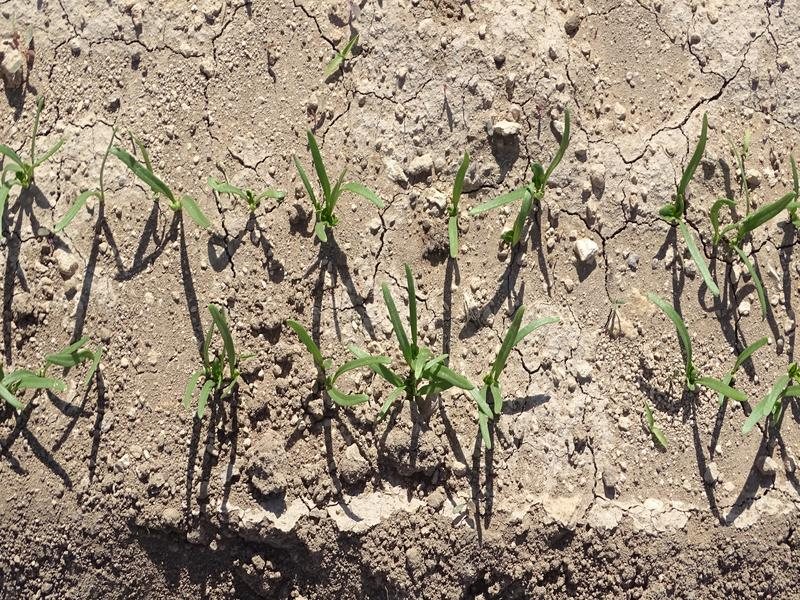Espinaca: (283, 290, 534, 442), (652, 143, 800, 305), (646, 316, 800, 419), (438, 126, 561, 253), (105, 144, 226, 236), (290, 135, 372, 239), (1, 330, 105, 411), (183, 298, 248, 414), (1, 135, 67, 214)
